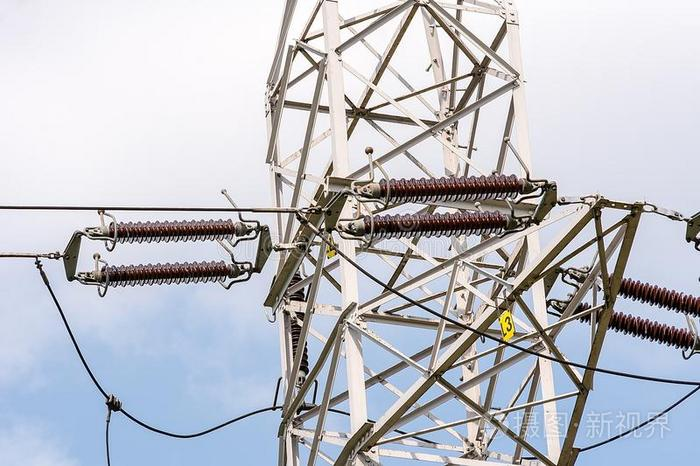insulator: (576, 299, 697, 352), (103, 254, 232, 289), (360, 209, 513, 238), (374, 173, 521, 202), (106, 215, 238, 247), (608, 274, 700, 314)
